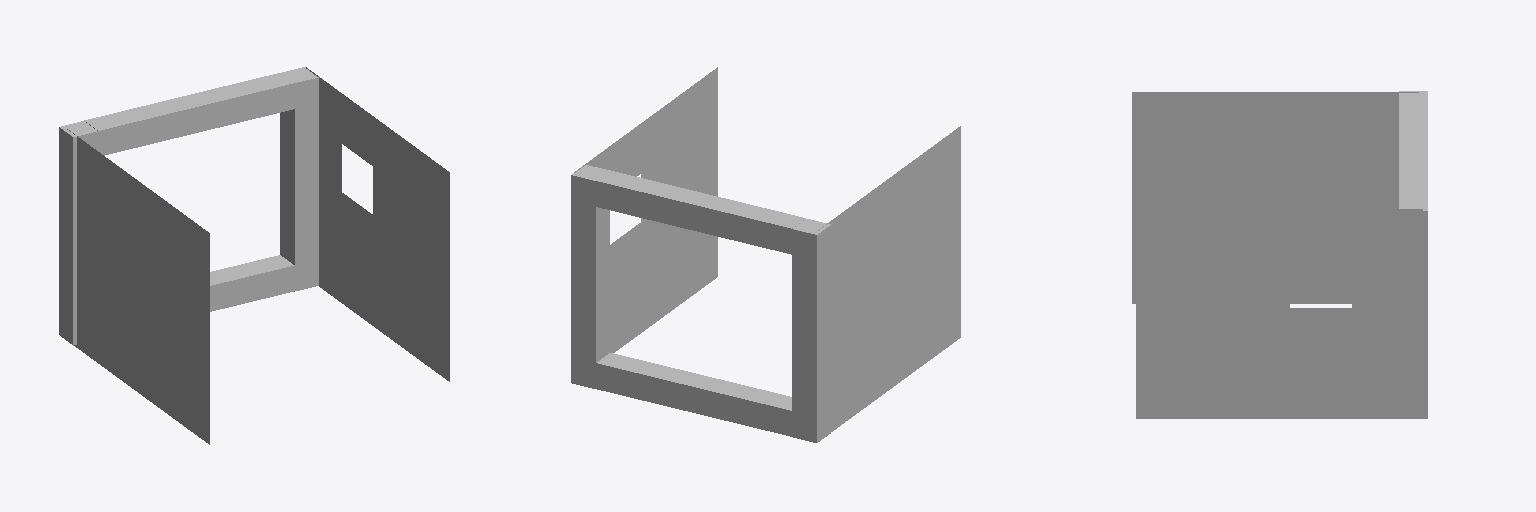
Rendered from wall.obj.
3 renders of one model, left to right at view 1: azimuth 30°, elevation 25°; view 2: azimuth 150°, elevation 25°; view 3: azimuth 270°, elevation 25°, orthographic.
Visible parts, largest first — view 1: sol.001, mur_d, cadre_h, cadre_d, cadre_g, cadre_b; view 2: sol.001, mur_d, cadre_g, cadre_h, cadre_b, cadre_d; view 3: mur_d, sol.001, cadre_d, cadre_h.
Part boxes in pixels (x1,y1,x2,y2): sol.001: (67,129,209,444); mur_d: (306,67,449,381); cadre_h: (84,73,294,155); cadre_d: (280,67,318,291); cadre_g: (59,121,97,345); cadre_b: (210,255,294,311); sol.001: (818,126,960,431); mur_d: (574,67,717,352); cadre_g: (792,219,830,442); cadre_h: (596,170,805,254); cadre_b: (596,353,791,436); cadre_d: (571,165,609,388); mur_d: (1136,209,1422,418); sol.001: (1132,92,1418,303); cadre_d: (1399,199,1427,418); cadre_h: (1399,103,1427,198).
Bounding box in the file's own units: 19.78 × 16.34 × 20.59.